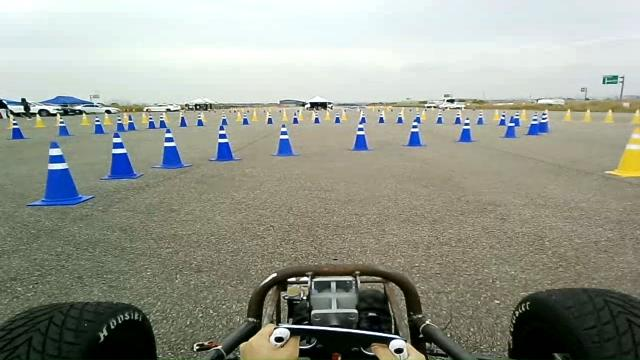blue cone: (26, 141, 94, 206), (99, 132, 143, 180), (151, 127, 192, 169), (208, 124, 242, 162), (271, 124, 299, 156), (348, 123, 372, 151), (401, 122, 426, 147), (456, 118, 476, 142), (500, 122, 519, 138), (525, 122, 539, 135)
yellow cone: (604, 126, 639, 178), (603, 109, 614, 122), (582, 108, 592, 122), (630, 109, 640, 123), (562, 108, 572, 121)
